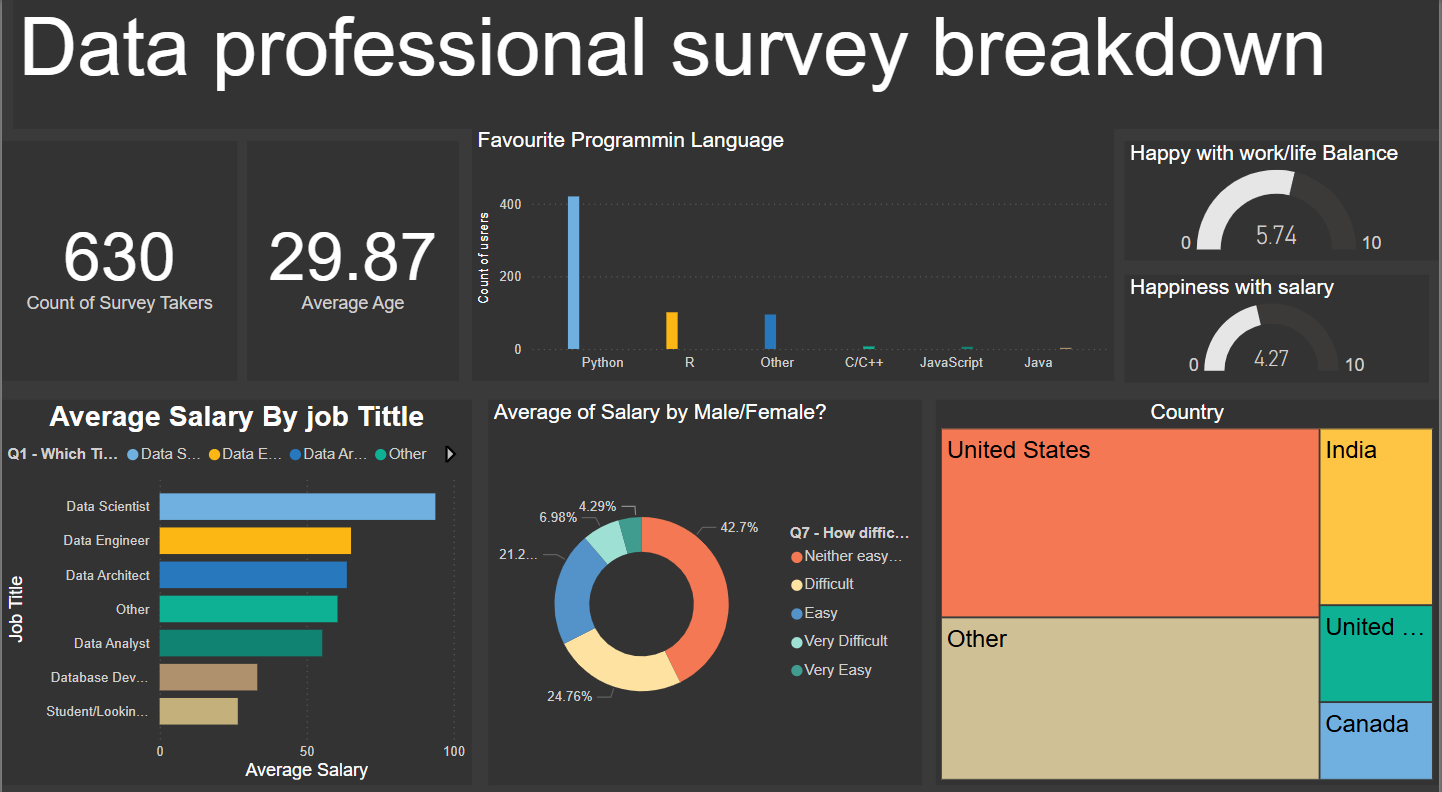

This screenshot's page, from the dashboard's own definition file:
{"tool":"powerbi","page":{"name":"Page 1","canvas":[1280,720],"ordinal":0},"visuals":[{"type":"textbox","box":[9.6,0,1270.7,118],"z":0},{"type":"card","fields":{"Values":["Count(Data Professional Survey.Unique ID)"]},"box":[0,128.8,209.8,213.5],"z":1000},{"type":"card","fields":{"Values":["Avg(Data Professional Survey.Q10 - Current Age)"]},"box":[218.4,128.8,189,213.5],"z":2000},{"type":"barChart","title":"Average Salary By job Tittle","fields":{"Category":["Data Professional Survey.Q1 - Which Title Best Fits your Current Role?.1"],"Y":["Avg(Data Professional Survey.Avg Salary)"],"Series":["Data Professional Survey.Q1 - Which Title Best Fits your Current Role?.1"]},"box":[0,359.5,418.4,343.6],"z":3000},{"type":"clusteredColumnChart","title":"Favourite Programmin Language","fields":{"Category":["Data Professional Survey.Q5 - Favorite Programming Language.1"],"Y":["CountNonNull(Data Professional Survey.Unique ID)"],"Series":["Data Professional Survey.Q5 - Favorite Programming Language.1"]},"box":[418.4,117.8,571.8,224.5],"z":4000},{"type":"treemap","title":"Country","fields":{"Values":["CountNonNull(Data Professional Survey.Q11 - Which Country do you live in?.1)"],"Group":["Data Professional Survey.Q11 - Which Country do you live in?.1"]},"box":[831.9,359.5,447.9,343.6],"z":5000},{"type":"gauge","title":"Happy with work/life Balance","fields":{"Y":["Avg(Data Professional Survey.Q6 - How Happy are you in your Current Position with the following? (Work/Life Balance))"],"MinValue":["Min(Data Professional Survey.Q6 - How Happy are you in your Current Position with the following? (Work/Life Balance))"],"MaxValue":["Max(Data Professional Survey.Q6 - How Happy are you in your Current Position with the following? (Work/Life Balance))"]},"box":[1000,128.8,279.8,106.7],"z":6000},{"type":"gauge","title":"Happiness with salary","fields":{"Y":["Avg(Data Professional Survey.Q6 - How Happy are you in your Current Position with the following? (Salary))"],"MinValue":["Min(Data Professional Survey.Q6 - How Happy are you in your Current Position with the following? (Salary))"],"MaxValue":["Max(Data Professional Survey.Q6 - How Happy are you in your Current Position with the following? (Salary))"]},"box":[1000,247.9,271.2,95.7],"z":7000},{"type":"donutChart","title":"Average of Salary by Male/Female?","fields":{"Category":["Data Professional Survey.Q7 - How difficult was it for you to break into Data?"],"Y":["CountNonNull(Data Professional Survey.Avg Salary)"]},"box":[433.1,359.5,386.5,343.6],"z":8000}]}

Visuals, with their boxes in screenshot pixels (x1, y1, x2, y2), scaled from the page's 1280x720 canvas onto the 1442x792 screenshot:
textbox: bbox=(11, 0, 1441, 130)
card - Count(Data Professional Survey.Unique ID): bbox=(0, 142, 236, 377)
card - Avg(Data Professional Survey.Q10 - Current Age): bbox=(246, 142, 459, 377)
"Average Salary By job Tittle" barChart: bbox=(0, 395, 471, 773)
"Favourite Programmin Language" clusteredColumnChart: bbox=(471, 130, 1116, 377)
"Country" treemap: bbox=(937, 395, 1441, 773)
"Happy with work/life Balance" gauge: bbox=(1127, 142, 1441, 259)
"Happiness with salary" gauge: bbox=(1127, 273, 1432, 378)
"Average of Salary by Male/Female?" donutChart: bbox=(488, 395, 923, 773)
